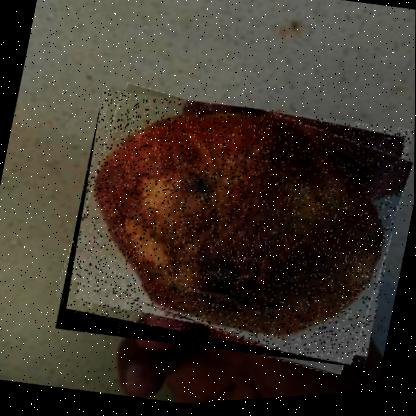guava_rotten: (54, 74, 413, 390)
